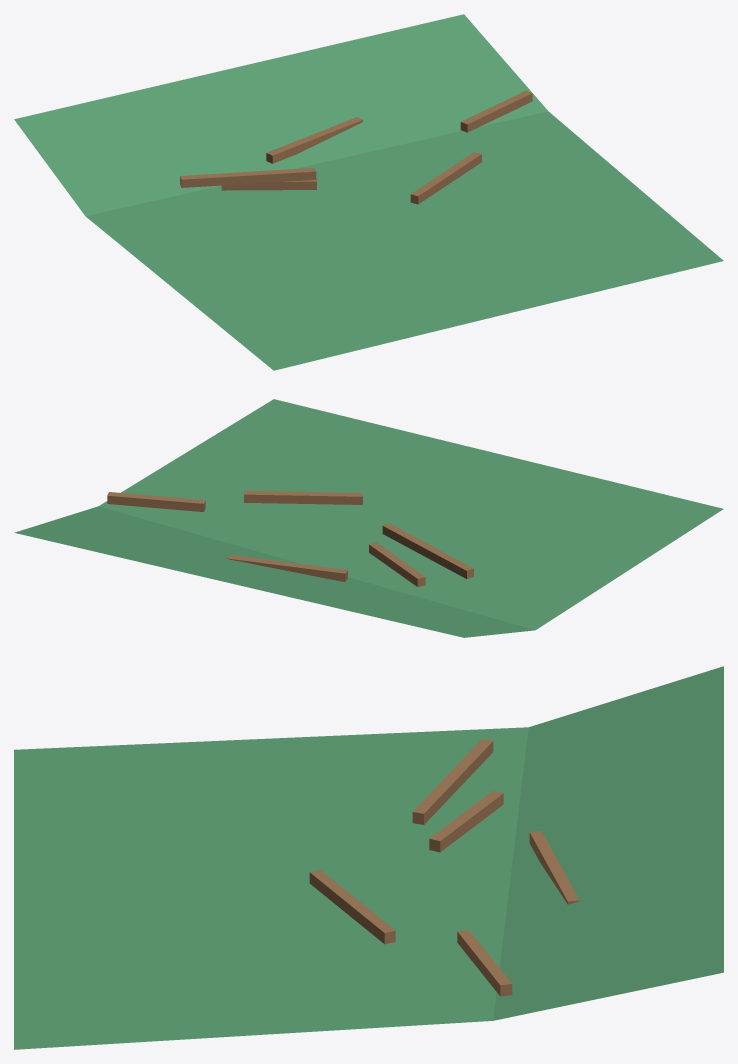
The model's file is terrain-moss-edge.low.glb.
3 views of the same model, one above another, from view 1: azimuth 30°, elevation 25°; view 2: azimuth 150°, elevation 25°; view 3: azimuth 270°, elevation 25° (orthographic). The views are drawn at different scales.
Visible parts, largest first — view 1: terrain_moss_edge_slope, terrain_moss_edge_root_01, terrain_moss_edge_root_02, terrain_moss_edge_root_00, terrain_moss_edge_root_03, terrain_moss_edge_root_04; view 2: terrain_moss_edge_slope, terrain_moss_edge_root_00, terrain_moss_edge_root_01, terrain_moss_edge_root_03, terrain_moss_edge_root_02, terrain_moss_edge_root_04; view 3: terrain_moss_edge_slope, terrain_moss_edge_root_01, terrain_moss_edge_root_00, terrain_moss_edge_root_04, terrain_moss_edge_root_03, terrain_moss_edge_root_02.
Part boxes in pixels (x1,y1,x2,y2): terrain_moss_edge_slope: (14, 14, 723, 370); terrain_moss_edge_root_01: (180, 168, 316, 187); terrain_moss_edge_root_02: (266, 117, 362, 163); terrain_moss_edge_root_00: (410, 152, 481, 204); terrain_moss_edge_root_03: (460, 90, 532, 132); terrain_moss_edge_root_04: (221, 178, 316, 190); terrain_moss_edge_slope: (14, 399, 723, 637); terrain_moss_edge_root_00: (244, 490, 362, 504); terrain_moss_edge_root_01: (382, 523, 473, 578); terrain_moss_edge_root_03: (107, 492, 205, 511); terrain_moss_edge_root_02: (226, 555, 347, 581); terrain_moss_edge_root_04: (369, 542, 425, 586); terrain_moss_edge_slope: (14, 666, 723, 1049); terrain_moss_edge_root_01: (412, 739, 493, 824); terrain_moss_edge_root_00: (309, 870, 395, 944); terrain_moss_edge_root_04: (429, 790, 503, 852); terrain_moss_edge_root_03: (457, 930, 512, 996); terrain_moss_edge_root_02: (529, 830, 579, 904).
Bounding box in the file's own units: 4 × 0.52 × 4.
